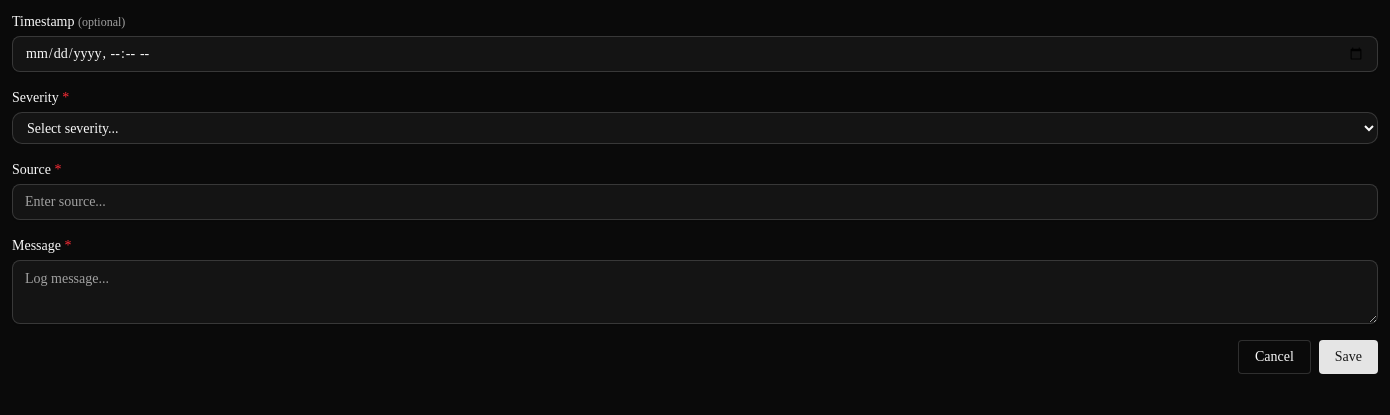
Scenario: LogForm › shows_severity_error_and_does_not_call_onSubmit_when_severity_not_selected
Type "api-gateway" into the field with test id "log-form-source" at (695, 202), box top-left (12, 184), bottom-right (1378, 220)
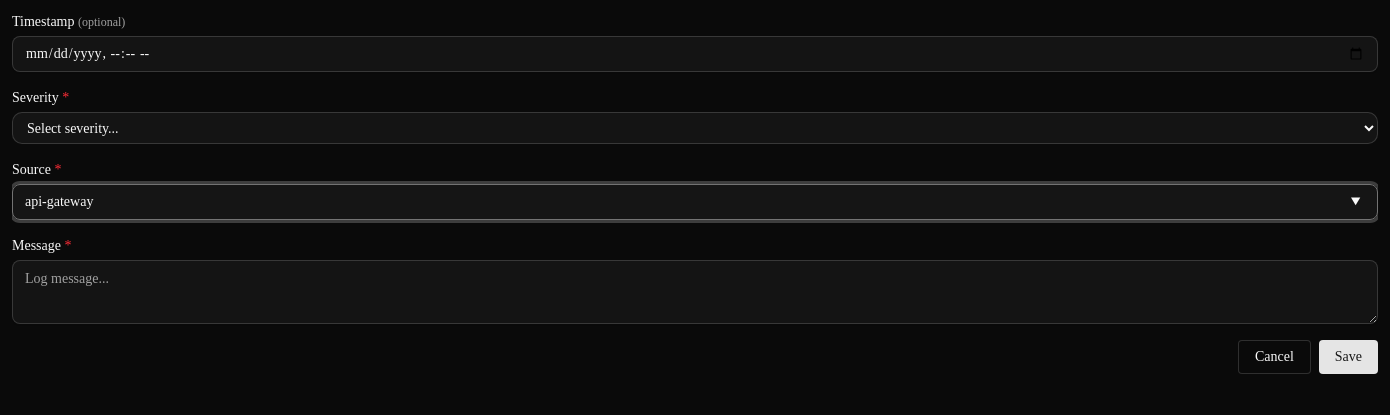
Type "test message" into the text box with test id "log-form-message" at (695, 292), box top-left (12, 260), bottom-right (1378, 324)
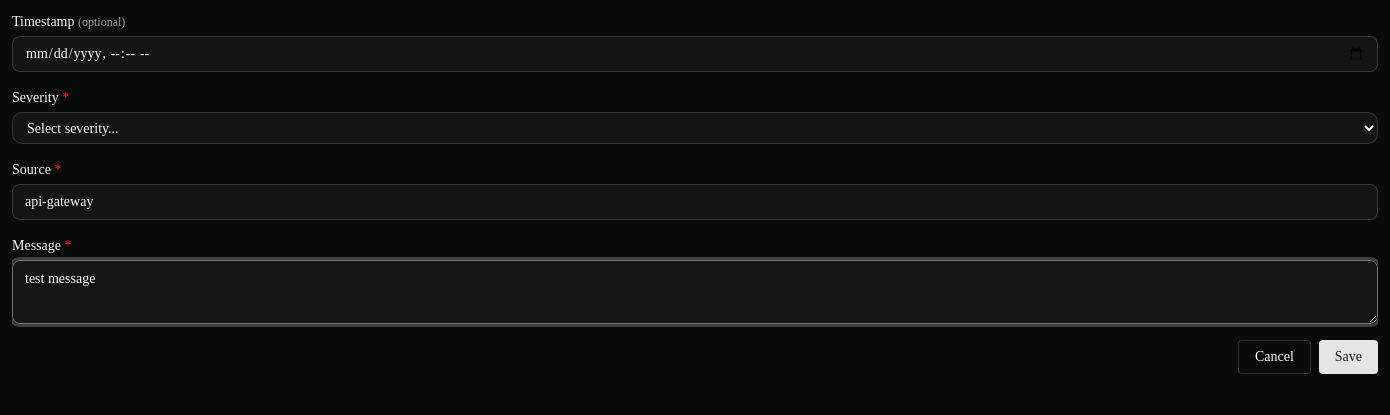
Click the button with test id "log-form-submit" at (1348, 357), box top-left (1319, 340), bottom-right (1378, 374)
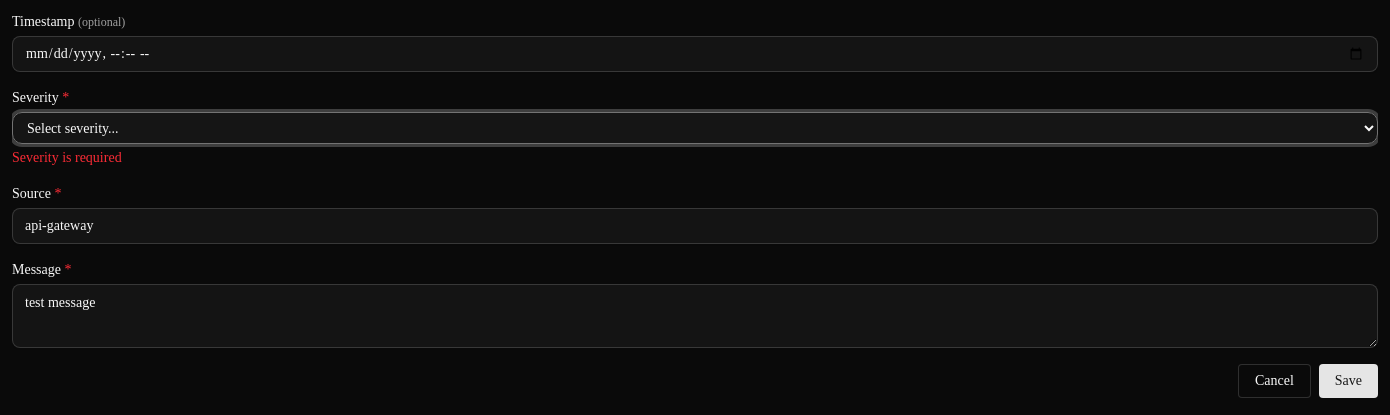
expect the text "Severity is required" is shown: met, box top-left (12, 150), bottom-right (122, 165)
